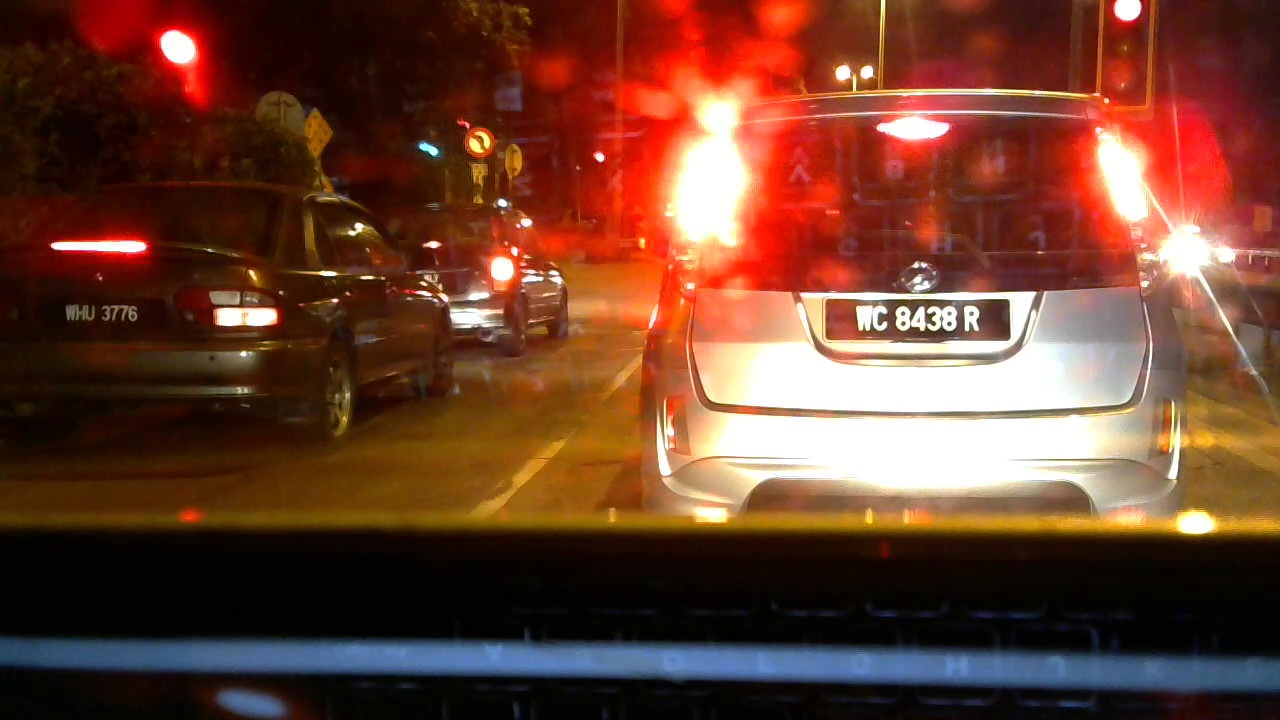Car: (620, 75, 1187, 525), (12, 165, 453, 456), (413, 206, 585, 349)
